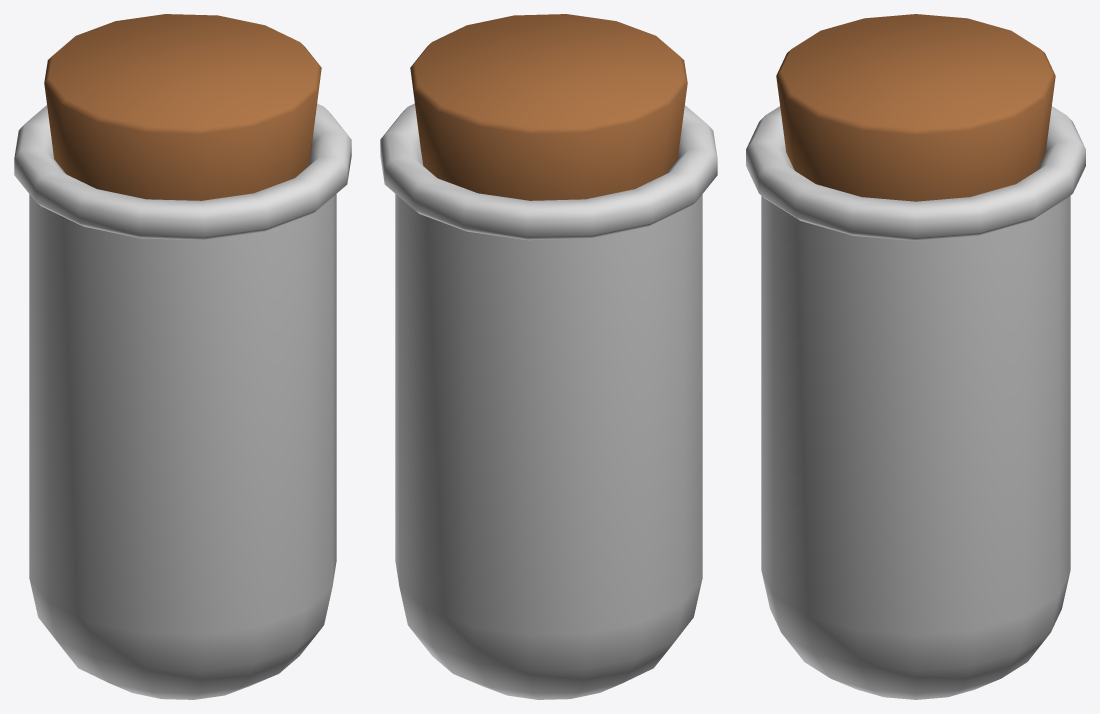
The model's file is bigflask.fbx.
The picture shows the model from 3 angles, left to right: view 1: azimuth 30°, elevation 25°; view 2: azimuth 150°, elevation 25°; view 3: azimuth 270°, elevation 25°; orthographic projection.
Visible parts, largest first — view 1: bigflask, cap; view 2: bigflask, cap; view 3: bigflask, cap.
Boxes of the visible parts, x1,y1,x2,y2 form: bigflask: [14, 103, 351, 699]; cap: [44, 14, 321, 200]; bigflask: [380, 103, 717, 699]; cap: [410, 14, 687, 200]; bigflask: [746, 106, 1085, 699]; cap: [776, 14, 1055, 201].
Size of the model in its own units: 0.5441 by 1.06 by 0.5441.
